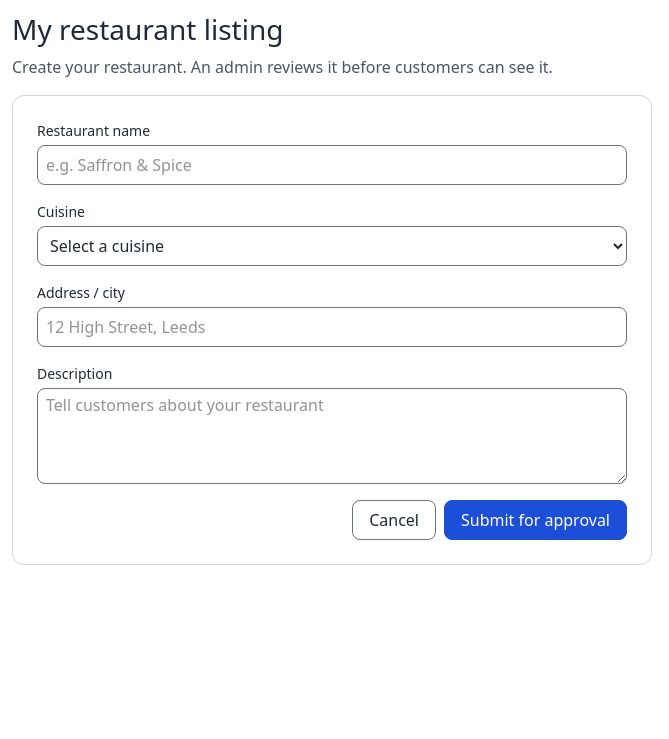
Test: RestaurantListingPage › refuses an empty create without posting and keeps typed values (AC 15)
Type "Leeds" into the field labelled "Address / city". click: (332, 327)
box: [37,307,627,347]
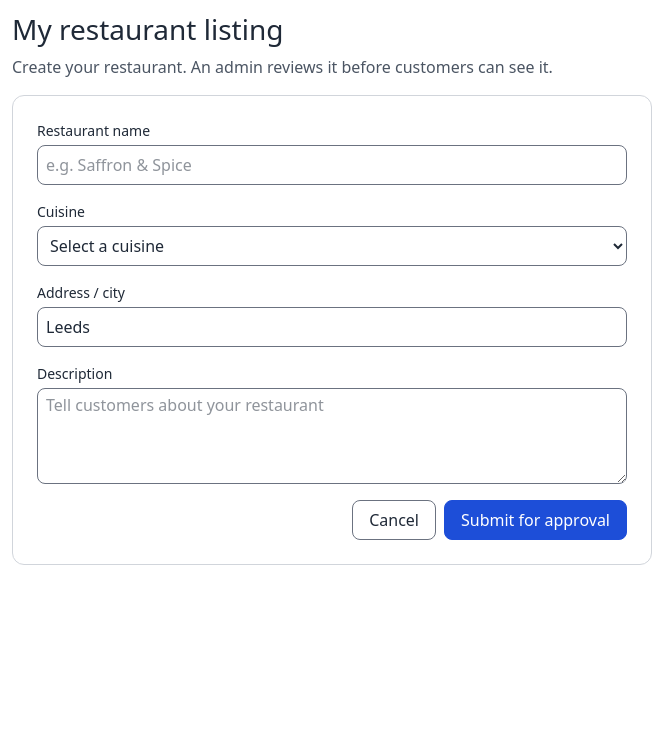
Click the button "Submit for approval". click: (536, 520)
box: [444,500,627,540]
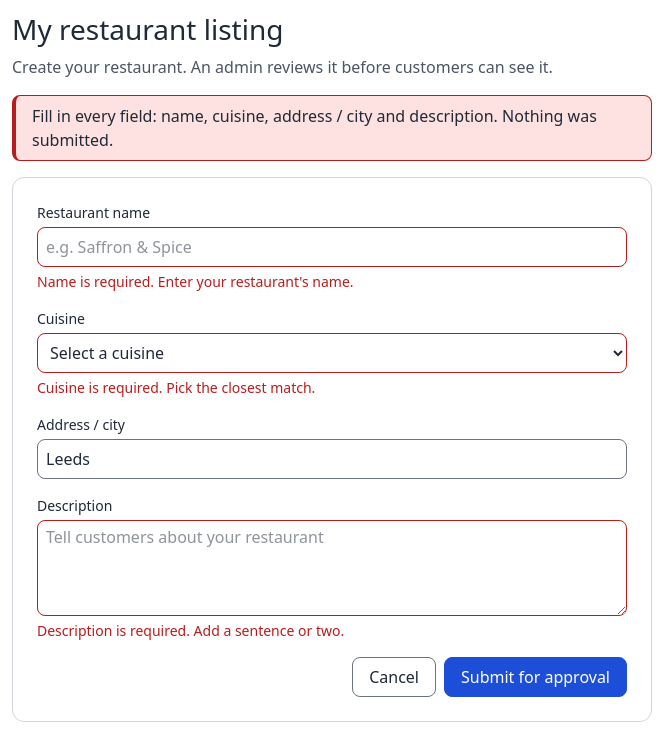
Result: the message shows "Fill in every field" at [32,105,597,151]
Result: the text "Name is required. Enter your restaurant's name." is shown at [37,272,354,291]
